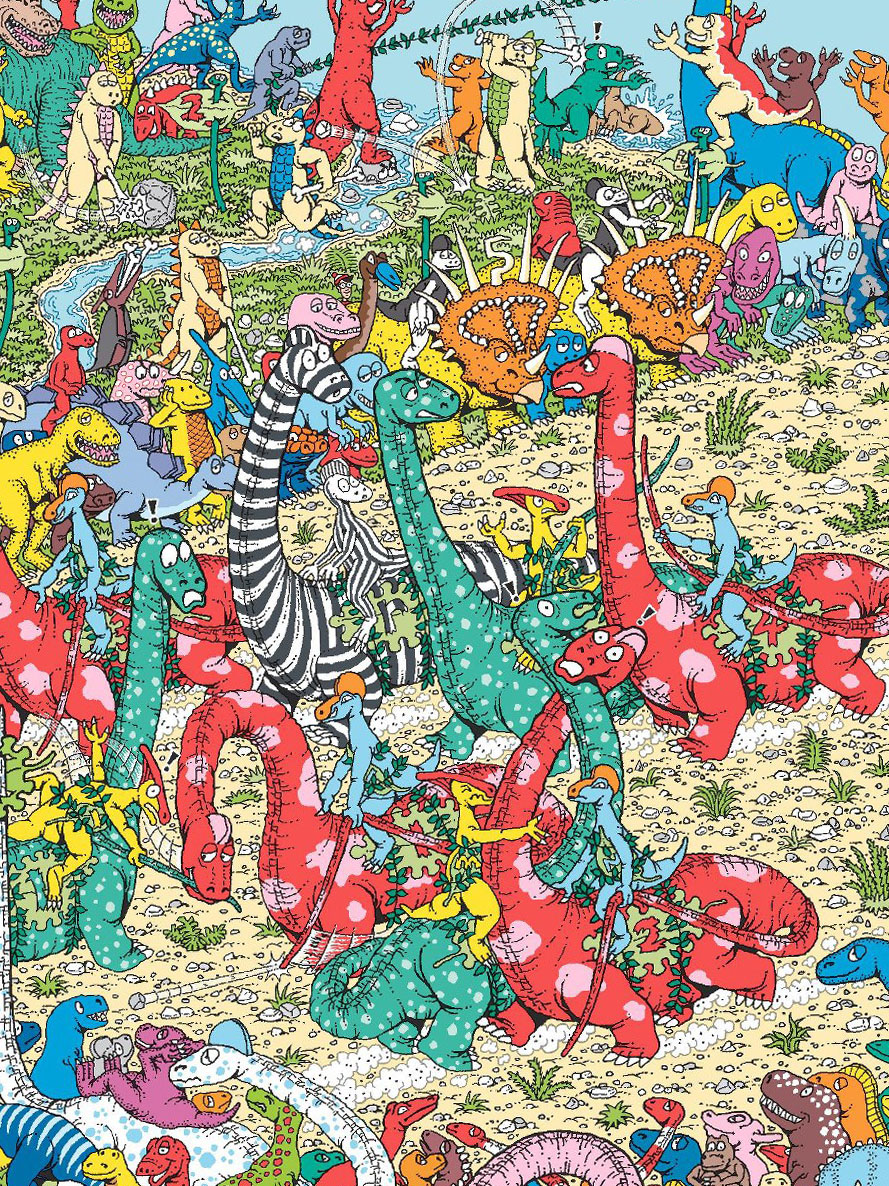waldo: (331, 270, 356, 299)
